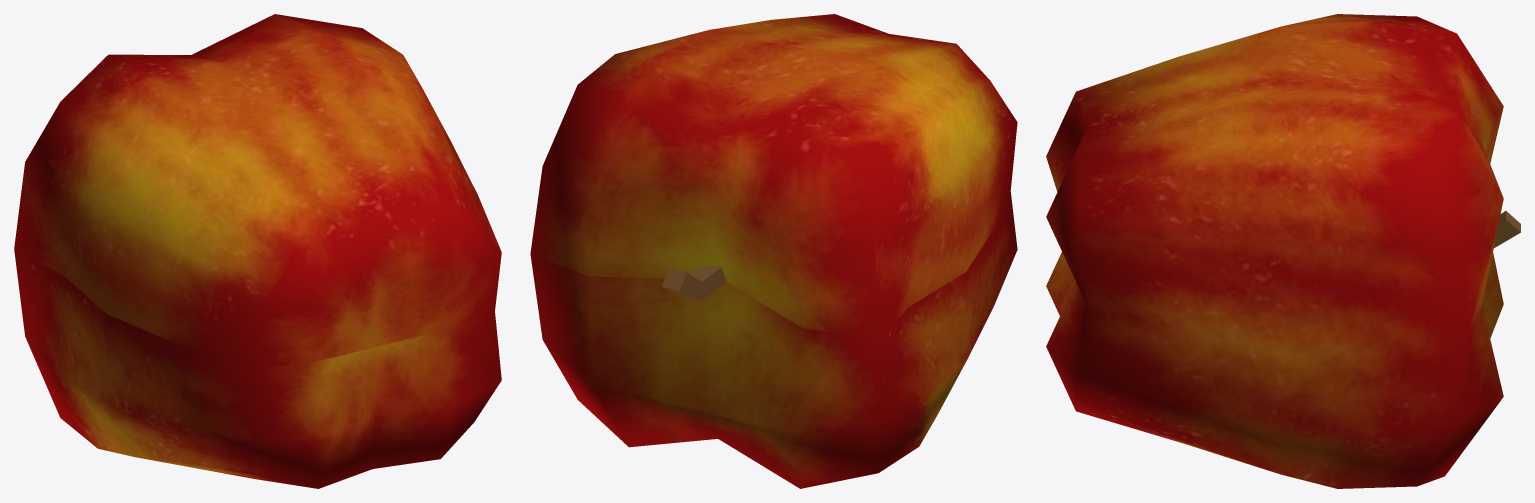
File: manzana.glb
3 views of the same model, side by side, from view 1: azimuth 30°, elevation 25°; view 2: azimuth 150°, elevation 25°; view 3: azimuth 270°, elevation 25° (orthographic).
Parts seen in each view (by area): view 1: manzana; view 2: manzana; view 3: manzana.
Part boxes in pixels (x1,y1,x2,y2): manzana: [14, 14, 501, 488]; manzana: [530, 14, 1017, 488]; manzana: [1046, 14, 1520, 488].
Bounding box in the file's own units: 0.1382 × 0.1382 × 0.1597.
2 materials, 1 textured.
